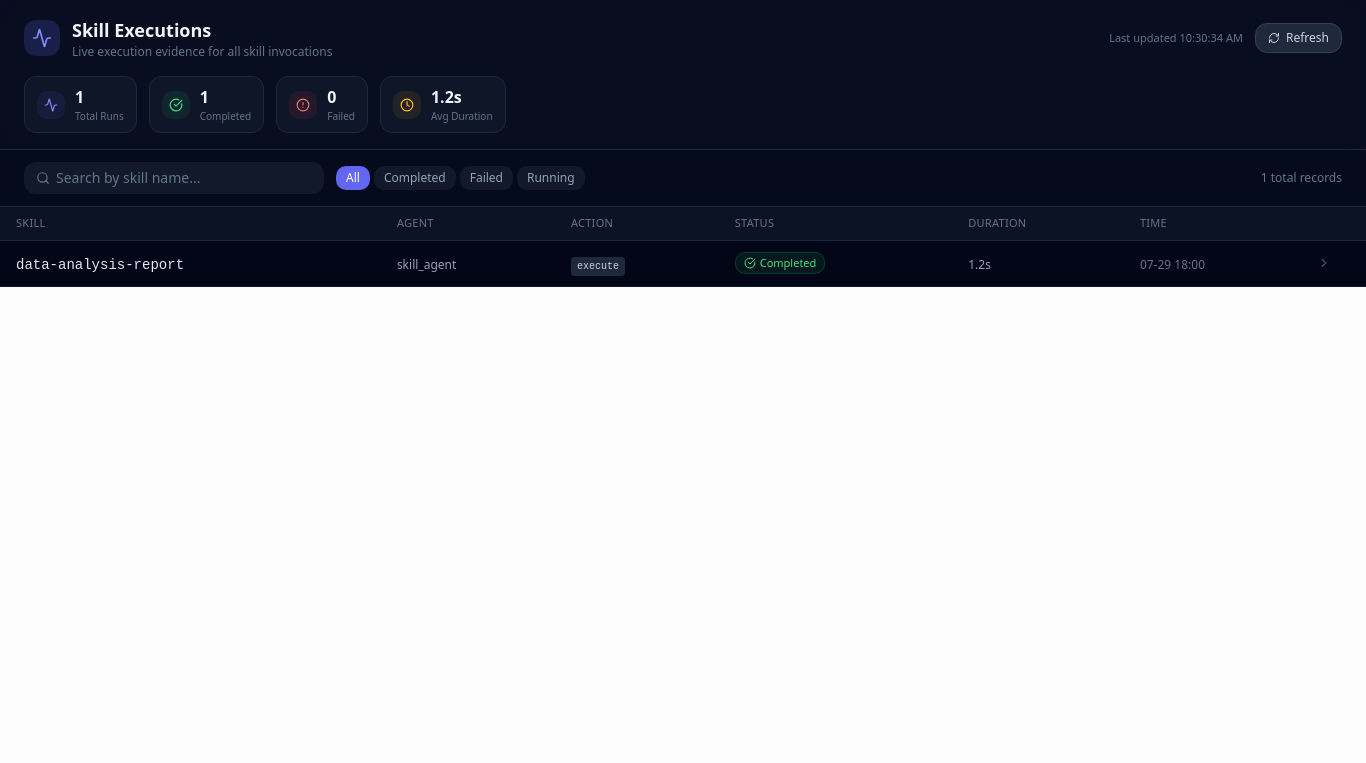
Scenario: SkillExecutions dashboard — UI automation › closes the detail panel when the X button is clicked
Note: Open detail panel
What coordinates should you click on to do the following:
click the text "data-analysis-report"
I would click on:
 (100, 265)
Its box is [16, 257, 184, 273].
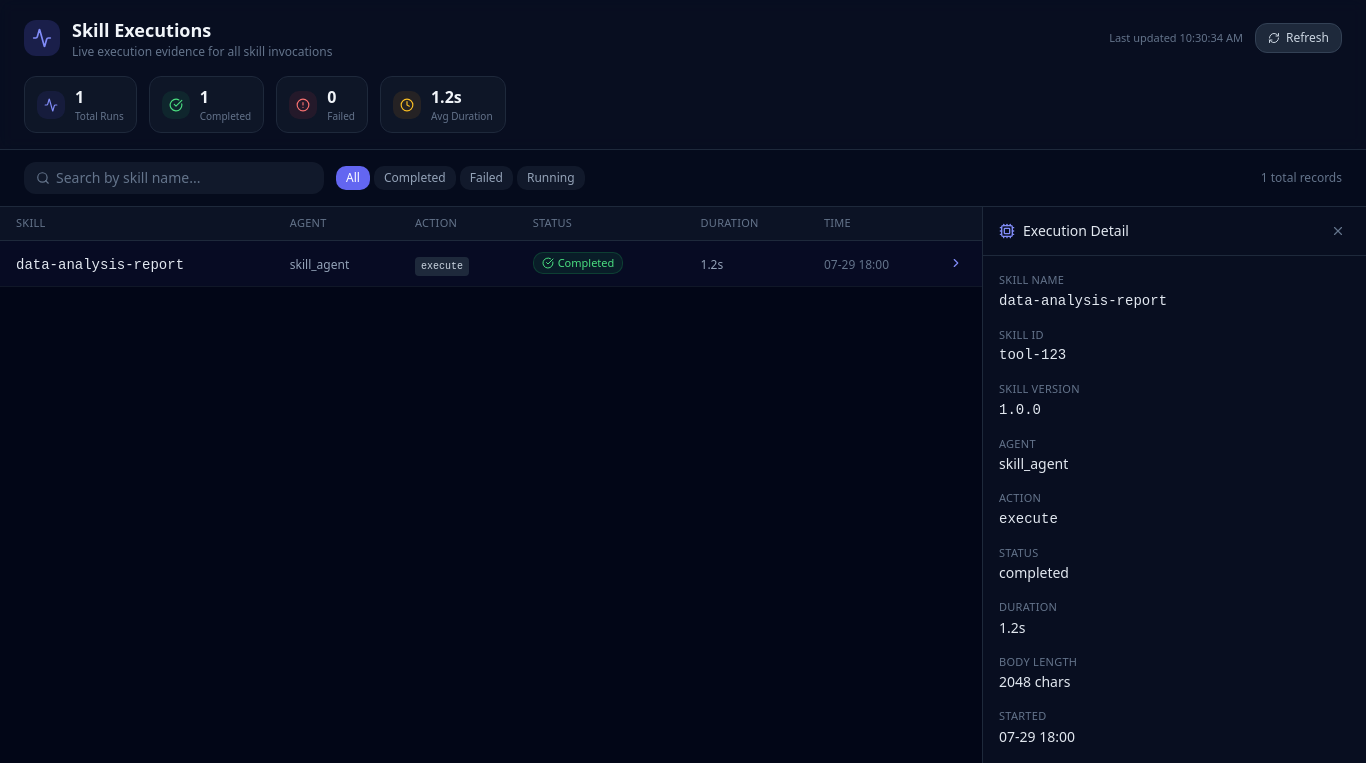
Expected: the text "Execution Detail" is shown, [1023, 221, 1129, 241]
Expected: the 6th button is shown
What coordinates should you click on to do the following:
click the 6th button
I would click on:
 (1338, 231)
Its box is [1326, 219, 1350, 243].
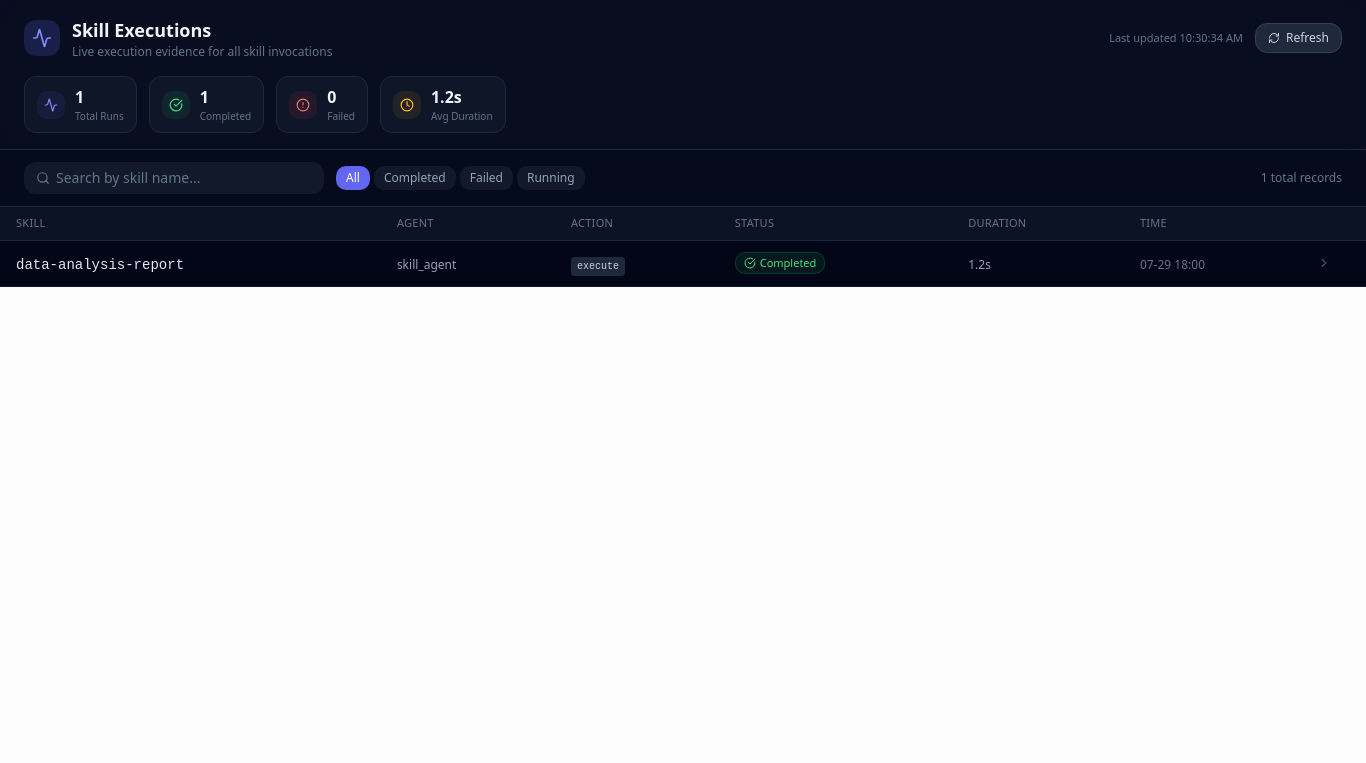
Expected: the text "Execution Detail" is gone
